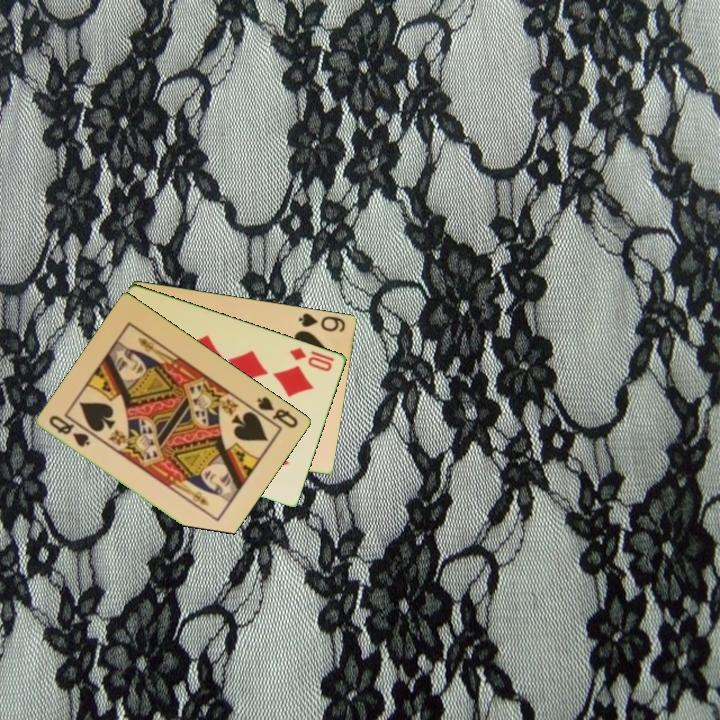10d: (286, 344, 335, 374)
6s: (296, 309, 349, 335)
Qs: (46, 411, 94, 450), (253, 393, 301, 431)
